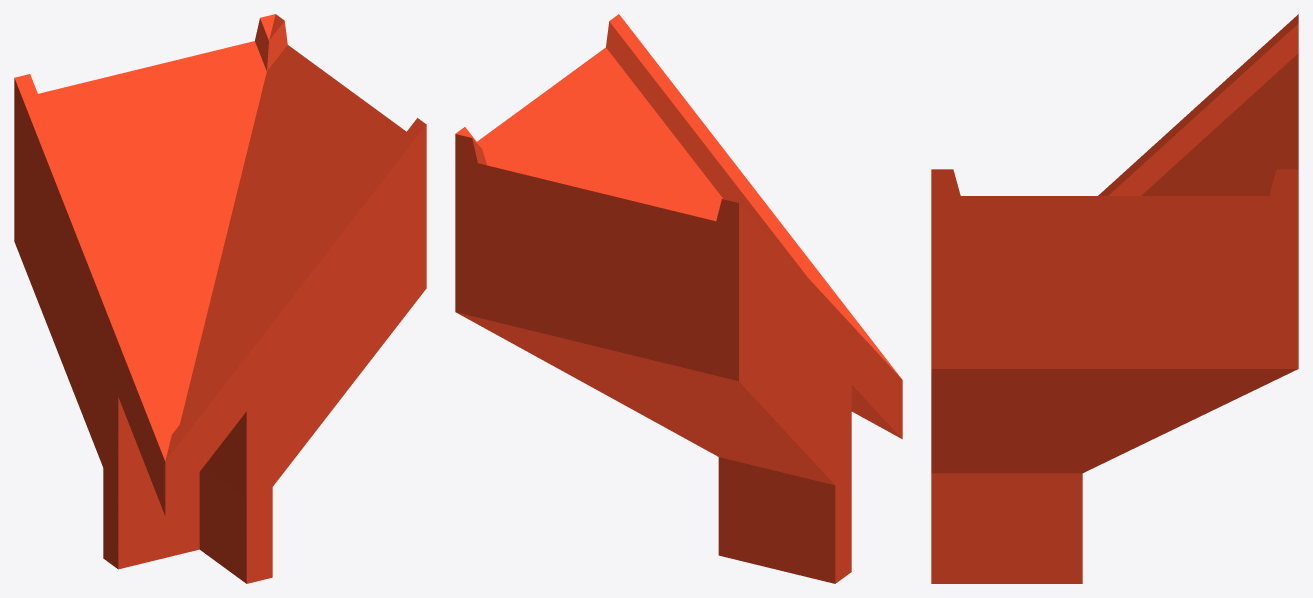
File: roof-metal-regular-edge-corner-b.fbx
3 renders of one model, left to right at view 1: azimuth 30°, elevation 25°; view 2: azimuth 150°, elevation 25°; view 3: azimuth 270°, elevation 25°, orthographic. The views are drawn at different scales.
Parts seen in each view (by area): view 1: roof-metal-regular-edge-corner-b; view 2: roof-metal-regular-edge-corner-b; view 3: roof-metal-regular-edge-corner-b.
Boxes of the visible parts, x1,y1,x2,y2 form: roof-metal-regular-edge-corner-b: (14, 14, 426, 583); roof-metal-regular-edge-corner-b: (455, 14, 902, 583); roof-metal-regular-edge-corner-b: (931, 14, 1298, 583).
Size of the model in its own units: 0.5 by 0.7602 by 0.5.
